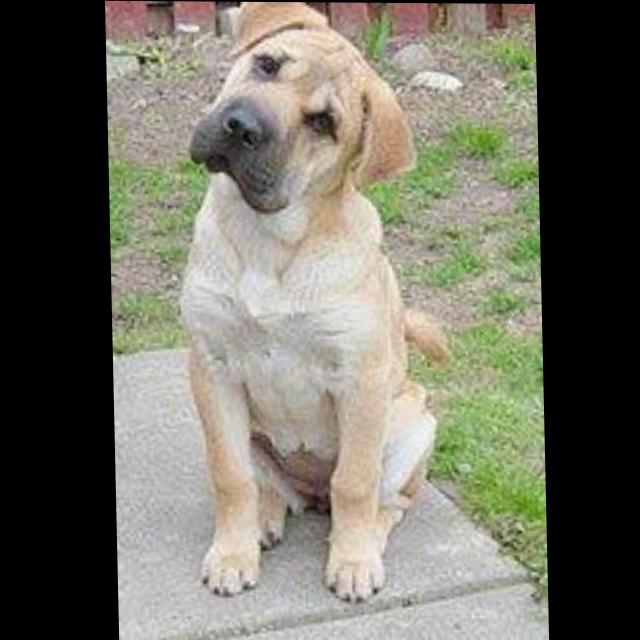bullmastiff: (175, 3, 458, 605)
